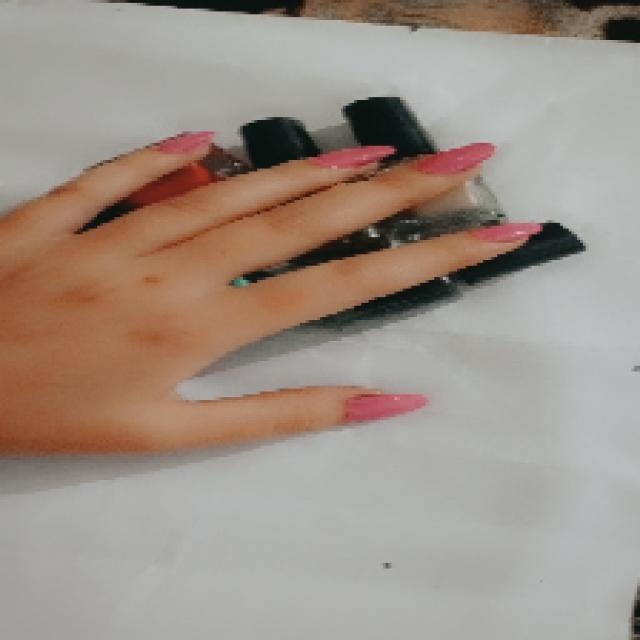Nail: (415, 142, 496, 174), (346, 394, 429, 421), (310, 145, 395, 169), (472, 222, 542, 242), (155, 131, 214, 154)
